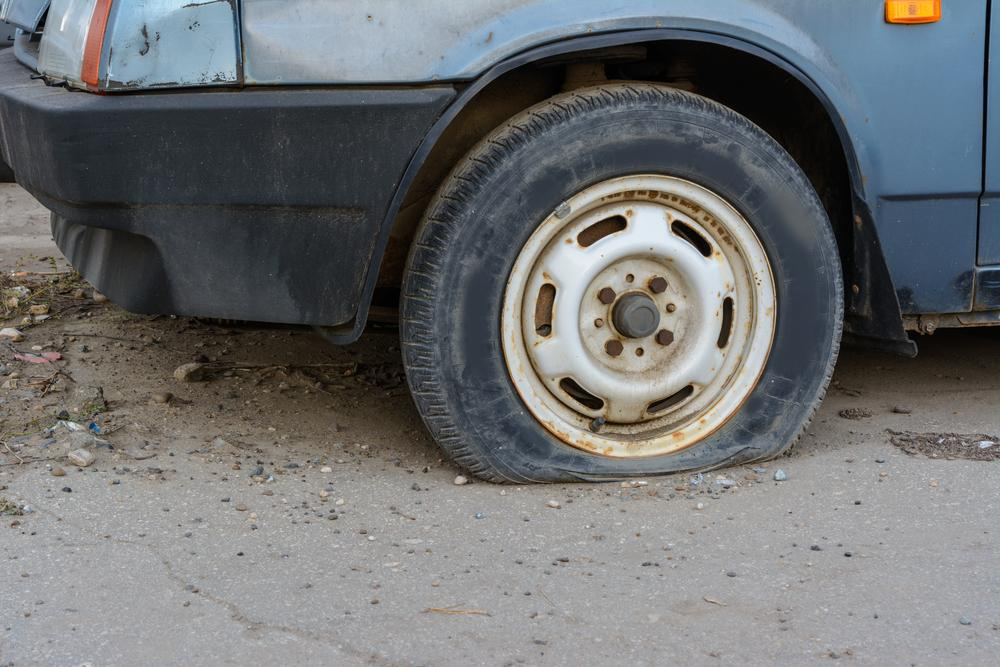tire flat: (402, 85, 842, 483)
